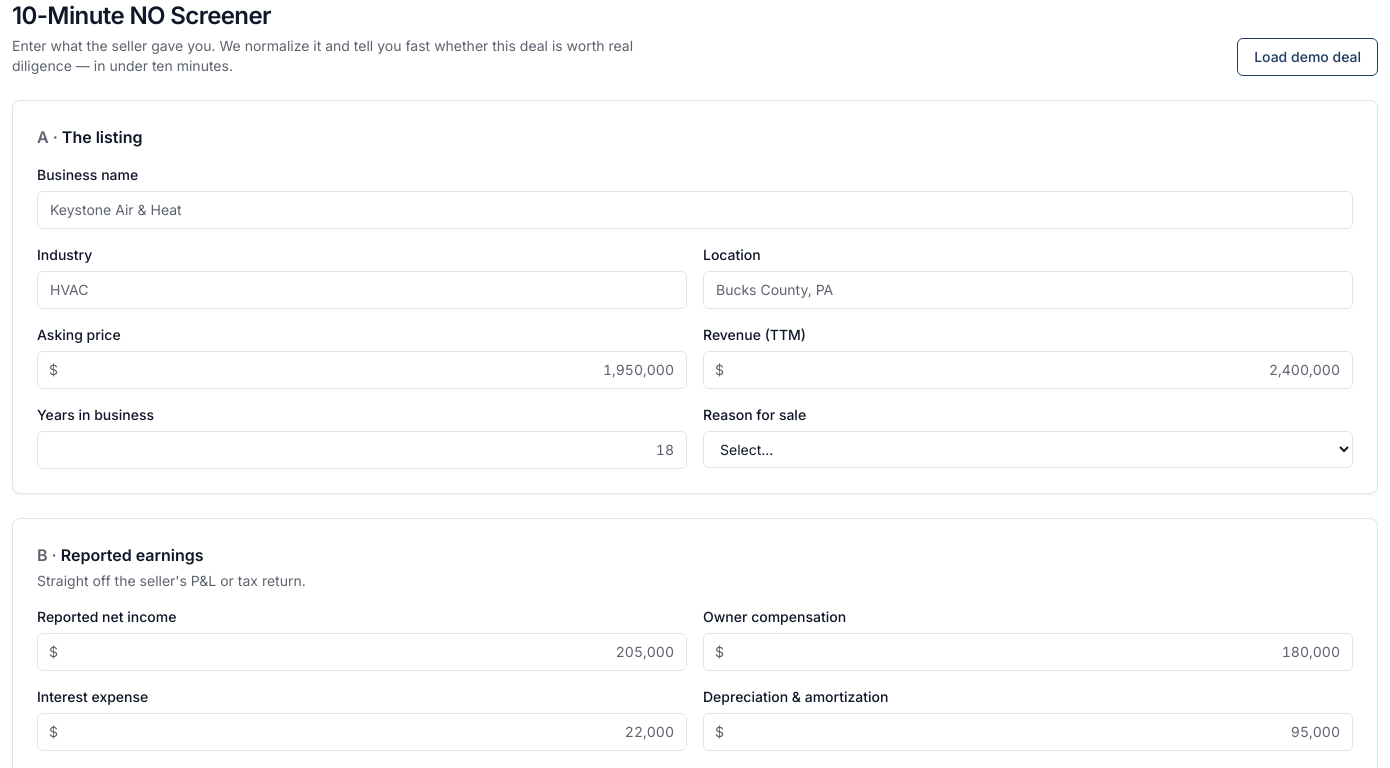
NewDeal — 10-Minute NO Screener › Load demo deal fills every field from the seed data
Click the button "Load demo deal" at (1308, 57), box [1237,38,1378,76]
(page scrolled)
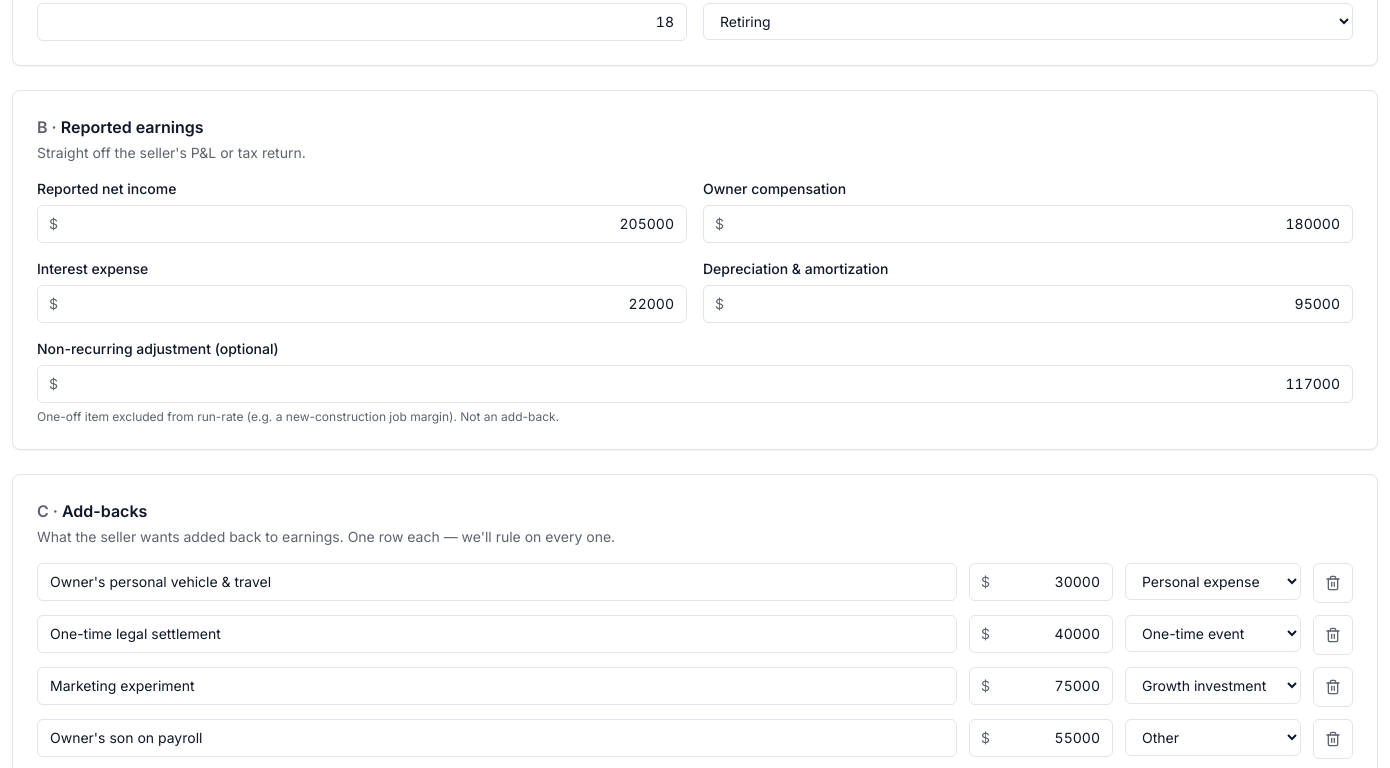
Expected: the number of fields named "Add-back description" is 5
